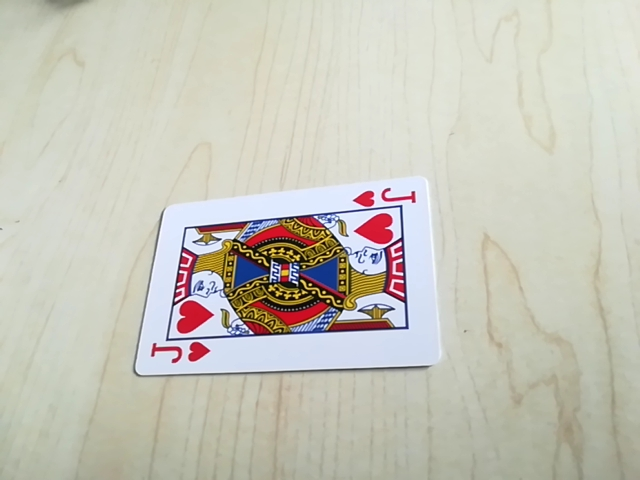hx j: (144, 339, 215, 372), (351, 183, 419, 211)
